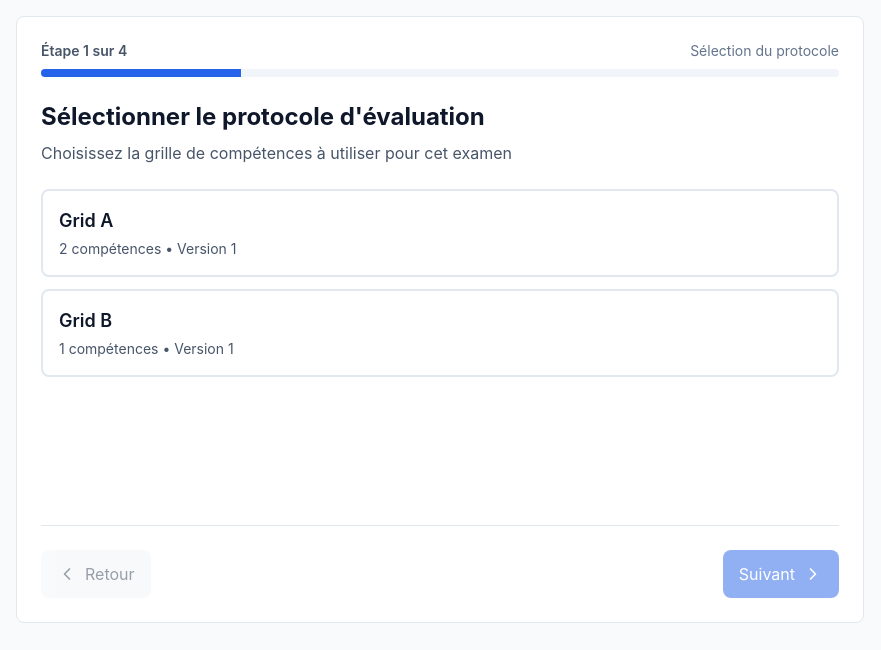
Test: ExamWizard › Step 3: Select Students › filters students by group
Click the text "Grid A" at (440, 233), box [41,189,839,277]
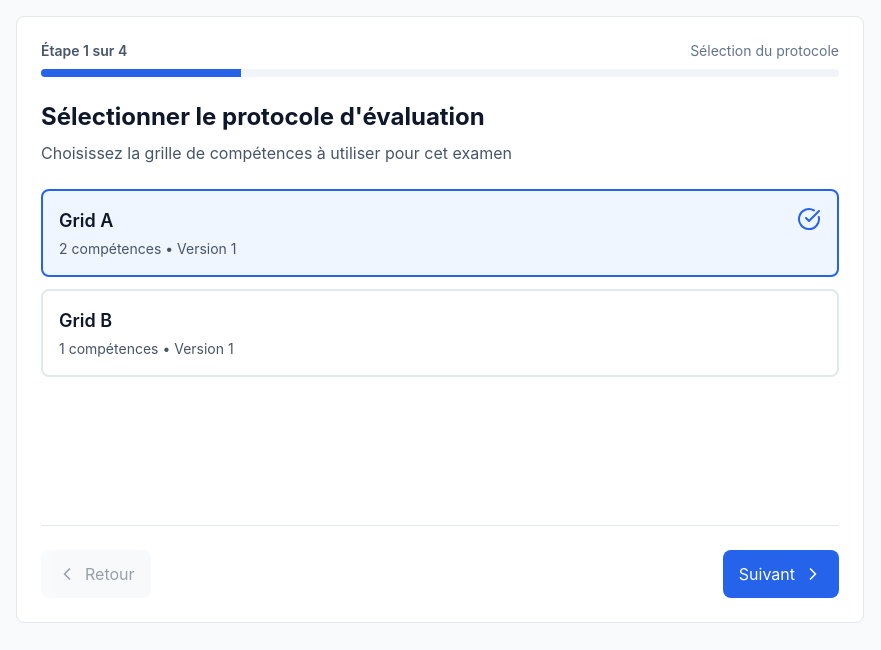
Click the button "Suivant" at (781, 574), box [723,550,839,598]
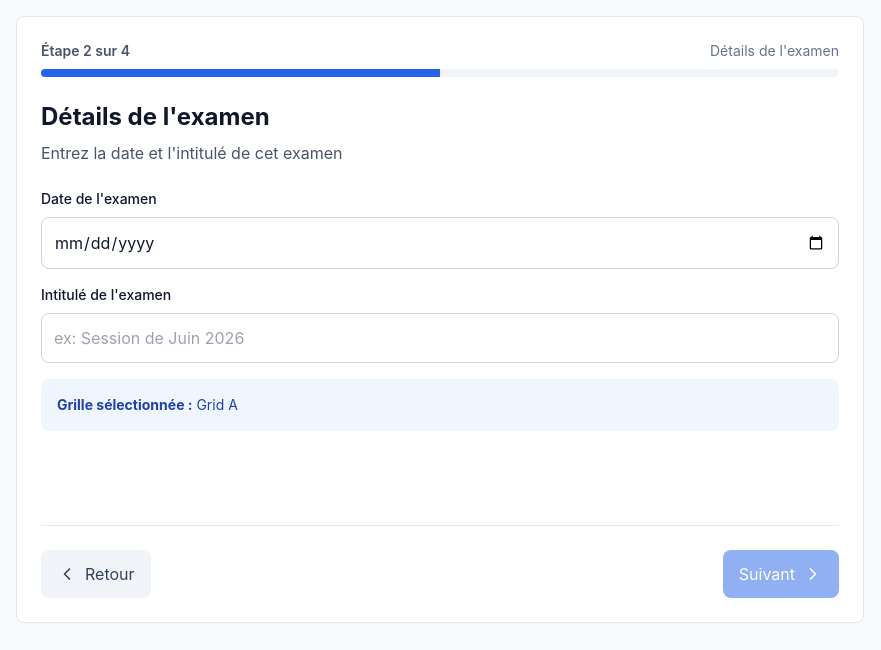
Expected: the date field labelled "Date de l'examen" is shown
Type "2024-06-15" into the date field labelled "Date de l'examen" at (440, 243), box [41,217,839,269]
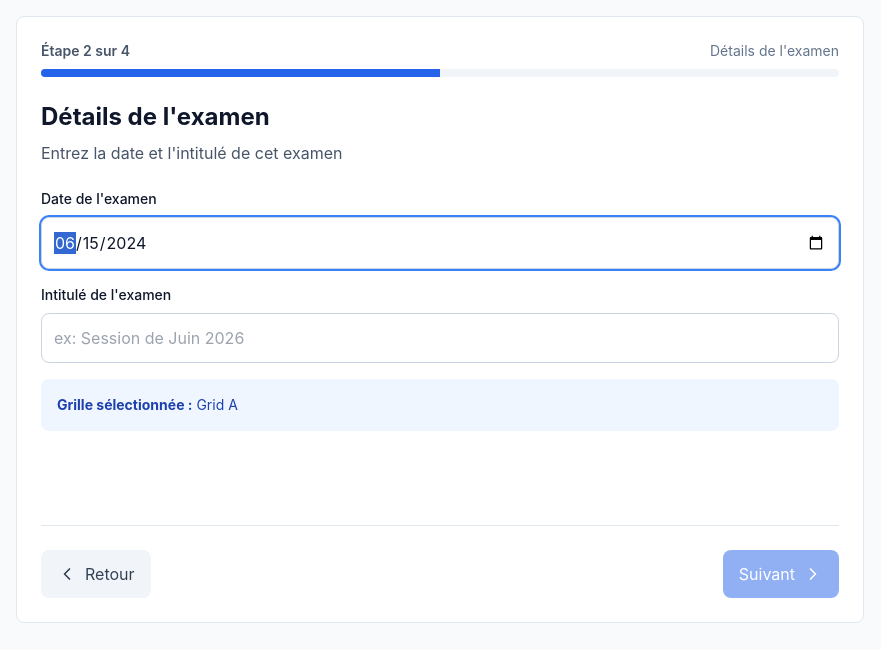
Type "Examen de mi-parcours" into the field with placeholder "ex: Session de Juin 2026" at (440, 338), box [41,313,839,363]
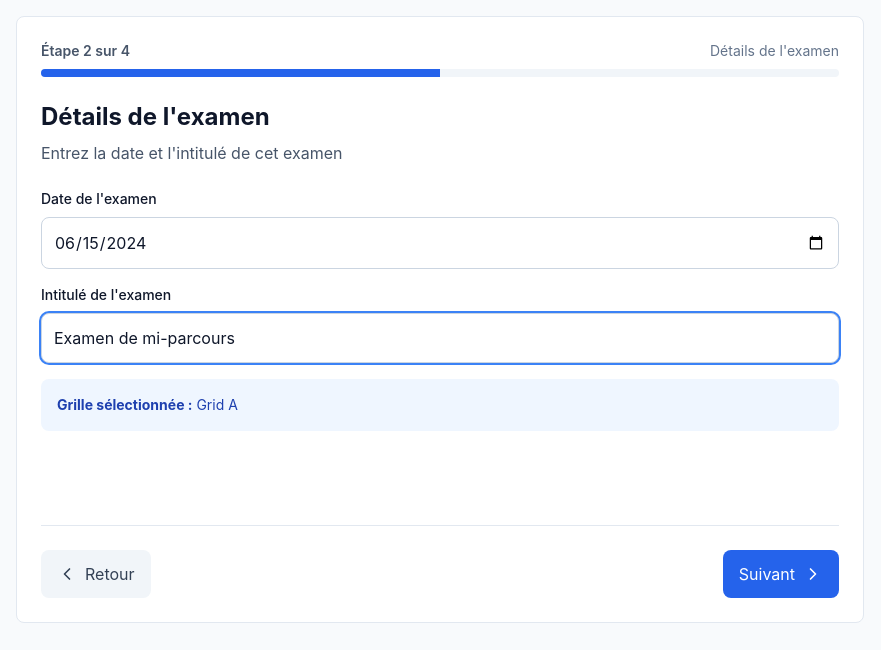
Click the button "Suivant" at (781, 574), box [723,550,839,598]
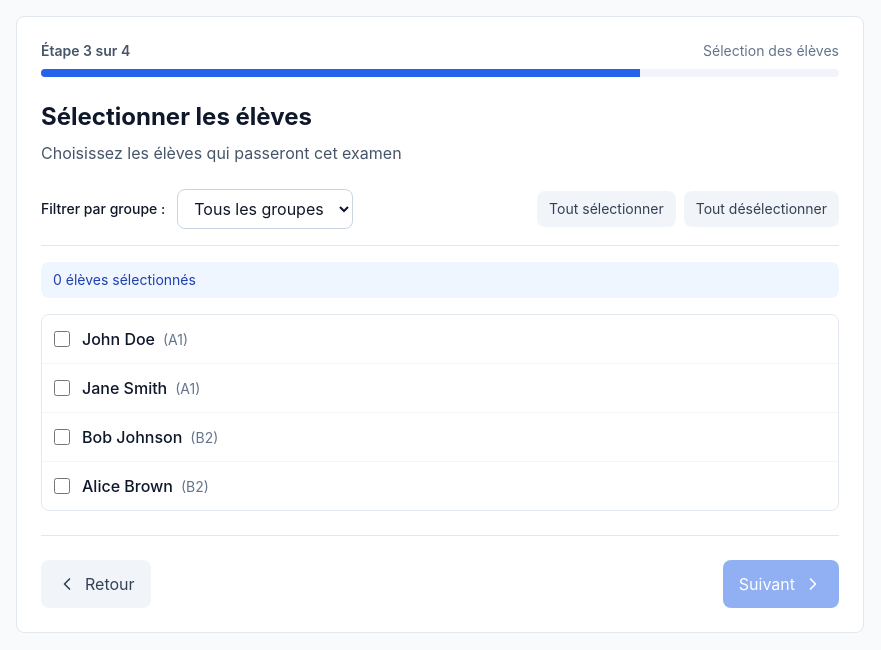
Expected: the dropdown showing "Tous les groupes" is shown
Select "A1" in the dropdown showing "Tous les groupes" at (265, 209), box [177,189,353,229]
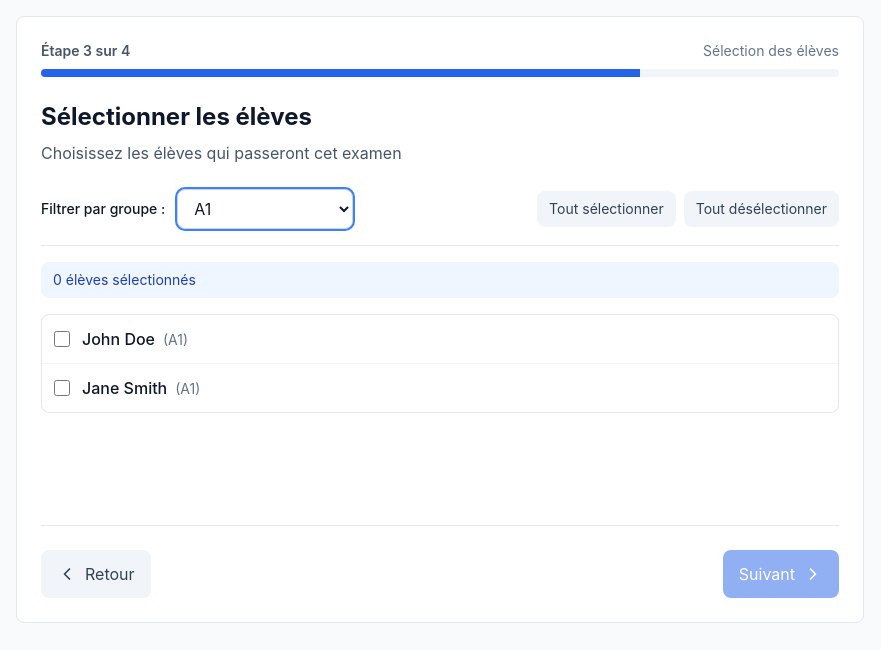
Expected: the text "John Doe" is shown, [82,329,155,349]
Expected: the text "Jane Smith" is shown, [82,378,167,398]
Expected: the text "Bob Johnson" is gone
